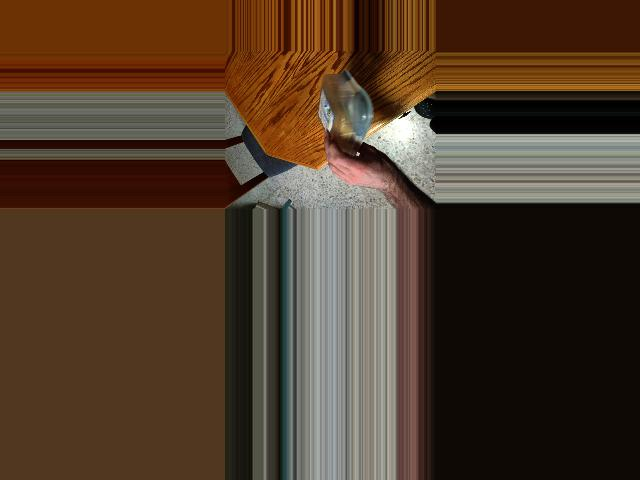cheese: (316, 69, 369, 172)
